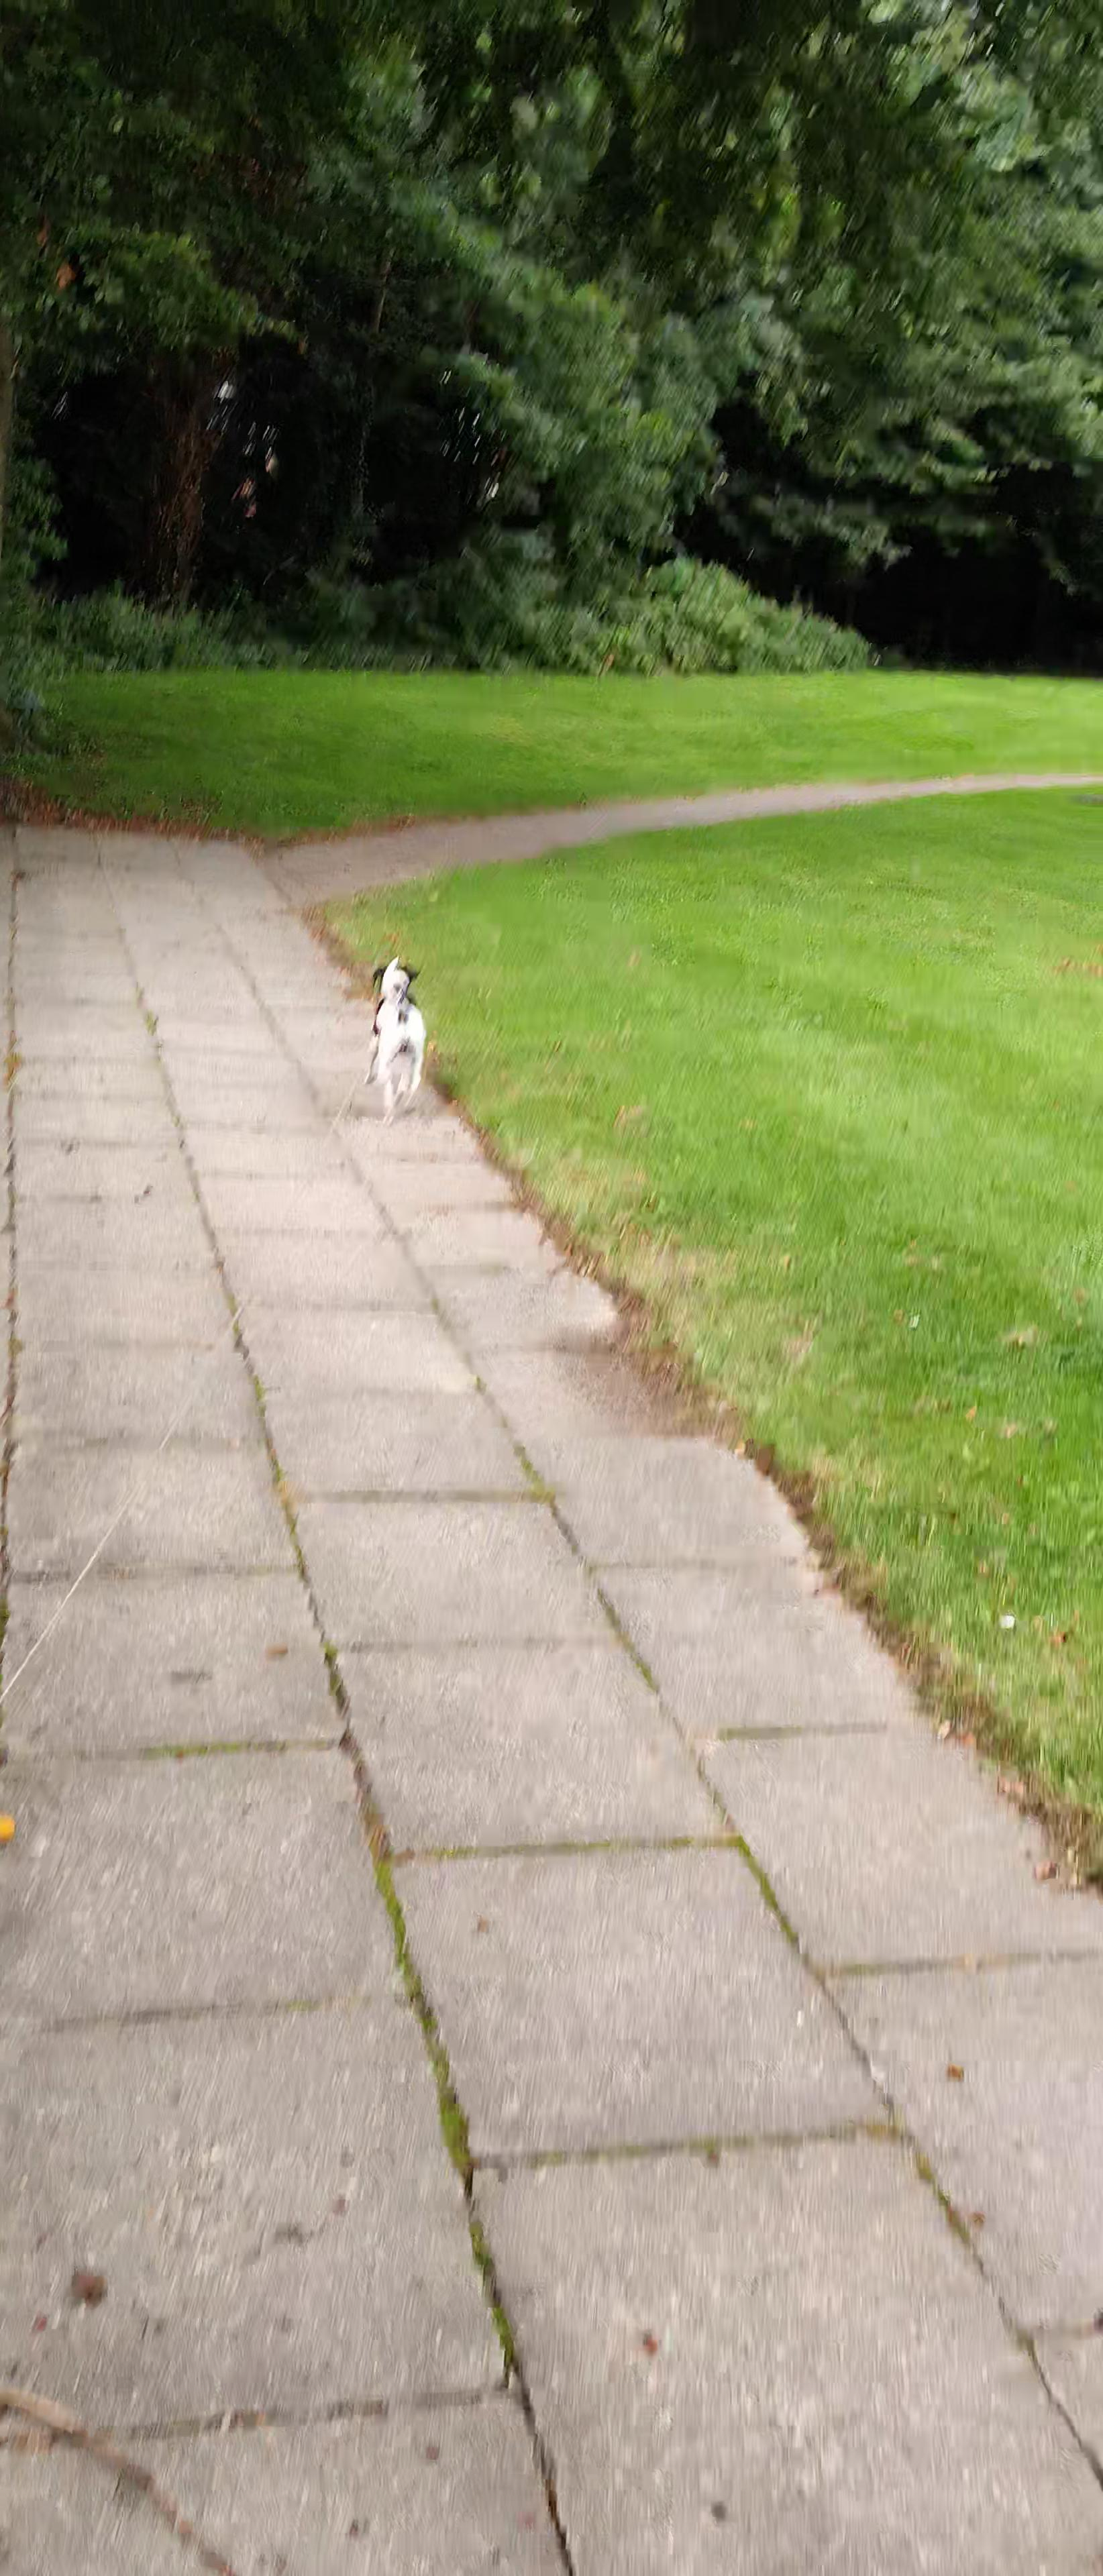Dog: (355, 950, 439, 1134)
